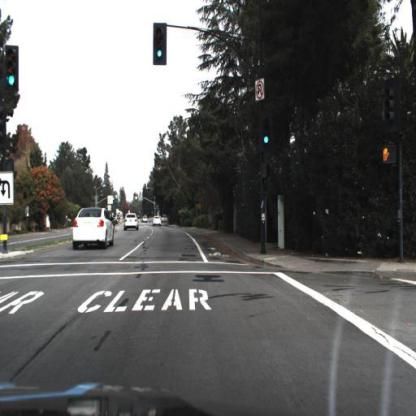car: (69, 204, 119, 255), (123, 211, 141, 236), (150, 211, 165, 232)
trafficLight-Green: (153, 23, 167, 65), (7, 46, 19, 91), (261, 115, 273, 151), (261, 133, 274, 149)
